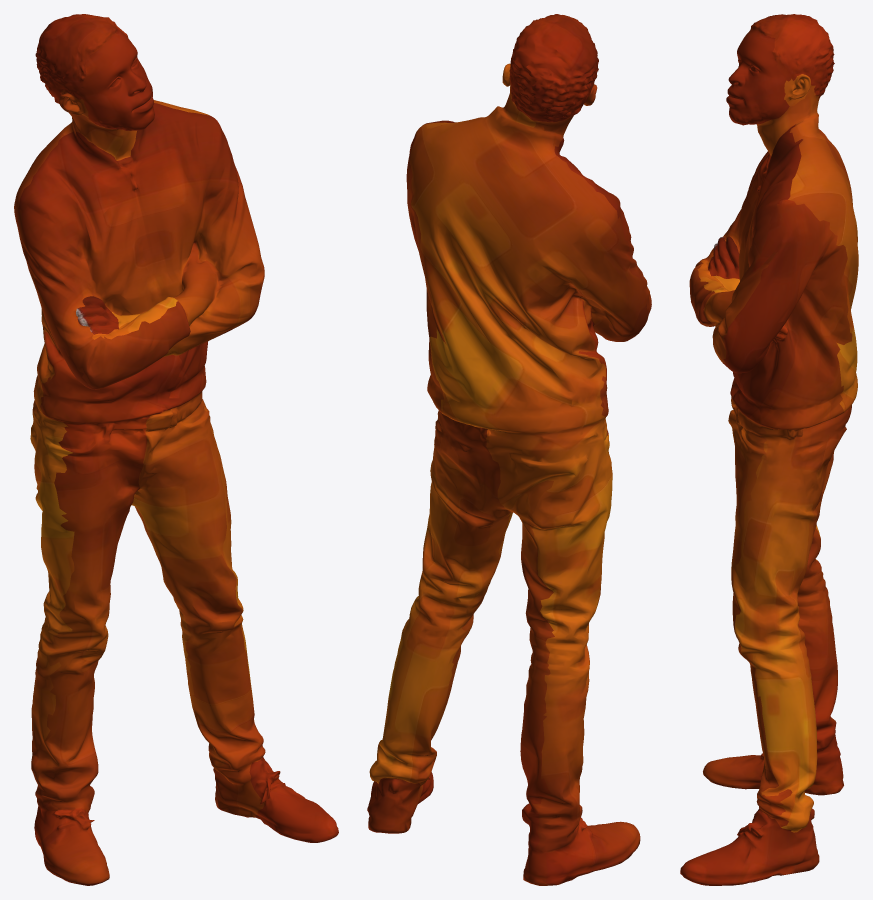
Rendered from thinkman.gltf.
3 renders of one model, left to right at view 1: azimuth 30°, elevation 25°; view 2: azimuth 150°, elevation 25°; view 3: azimuth 270°, elevation 25°, orthographic. The views are drawn at different scales.
Visible parts, largest first — view 1: Cas_Sum_Man_RtStand_366; view 2: Cas_Sum_Man_RtStand_366; view 3: Cas_Sum_Man_RtStand_366.
Part boxes in pixels (x1,y1,x2,y2): Cas_Sum_Man_RtStand_366: (14,14,338,885); Cas_Sum_Man_RtStand_366: (367,14,651,885); Cas_Sum_Man_RtStand_366: (680,14,858,885).
Size of the model in its own units: 0.5266 by 1.53 by 0.3193.
Materials: 1 (1 with a texture image).
